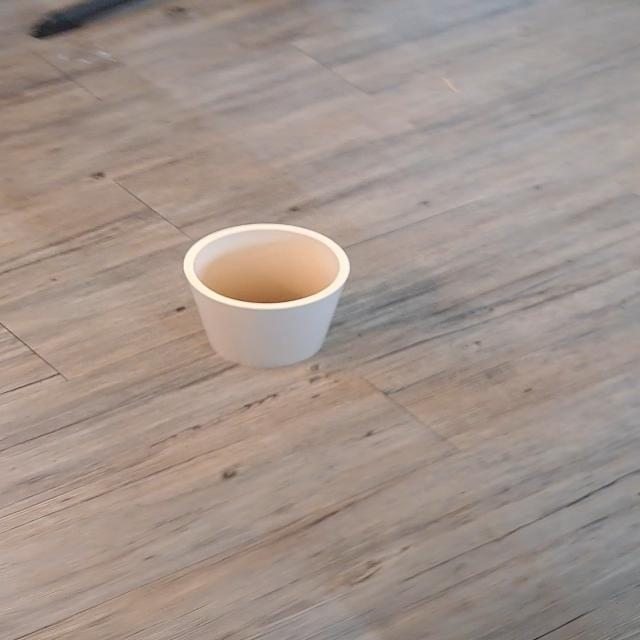CORAL: (148, 210, 392, 369)
